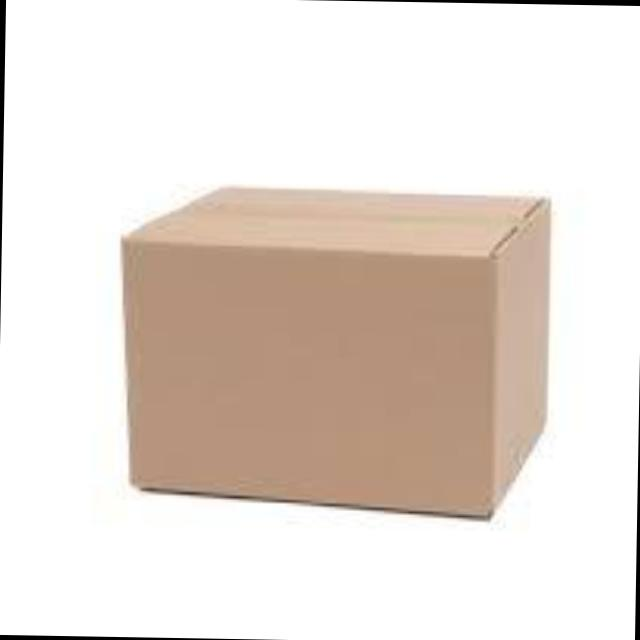box: (110, 179, 564, 522)
